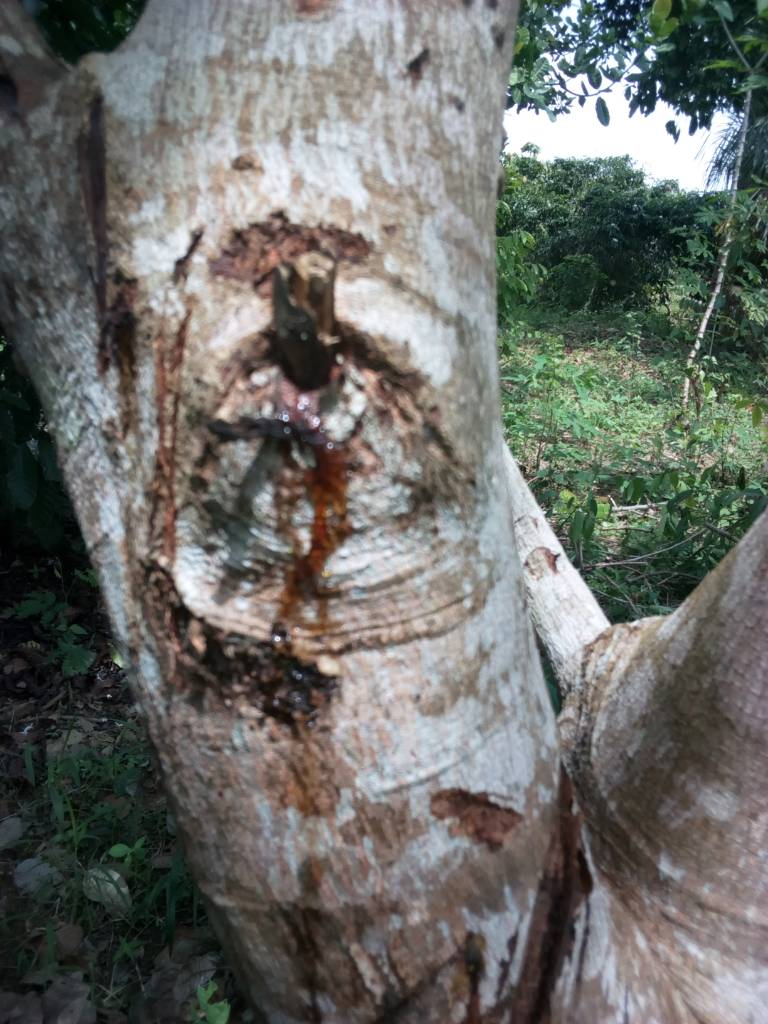Gommose: (138, 244, 377, 746)
